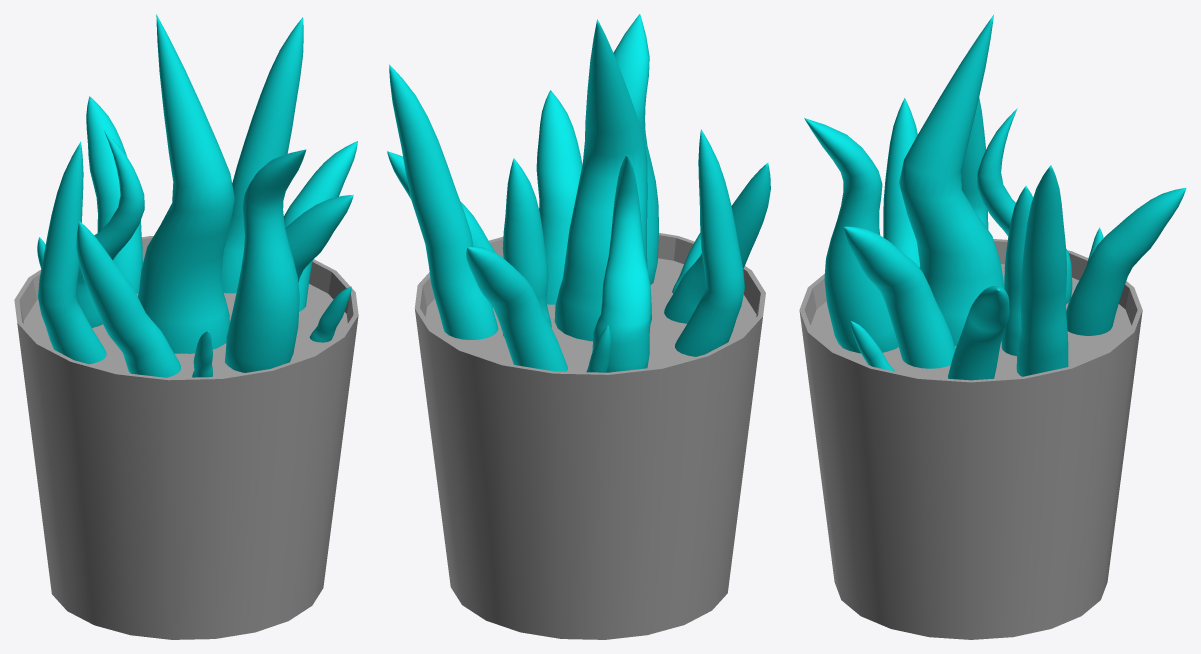
Rendered from GrassInPot.fbx.
3 views of the same model, side by side, from view 1: azimuth 30°, elevation 25°; view 2: azimuth 150°, elevation 25°; view 3: azimuth 270°, elevation 25° (orthographic). The views are drawn at different scales.
Visible parts, largest first — view 1: pCylinder121; view 2: pCylinder121; view 3: pCylinder121.
Boxes of the visible parts, box(x1,y1,x2,y2) form: pCylinder121: box(14, 14, 358, 639); pCylinder121: box(387, 14, 770, 639); pCylinder121: box(799, 14, 1186, 639).
Bounding box in the file's own units: 0.234 × 0.3762 × 0.2359.
